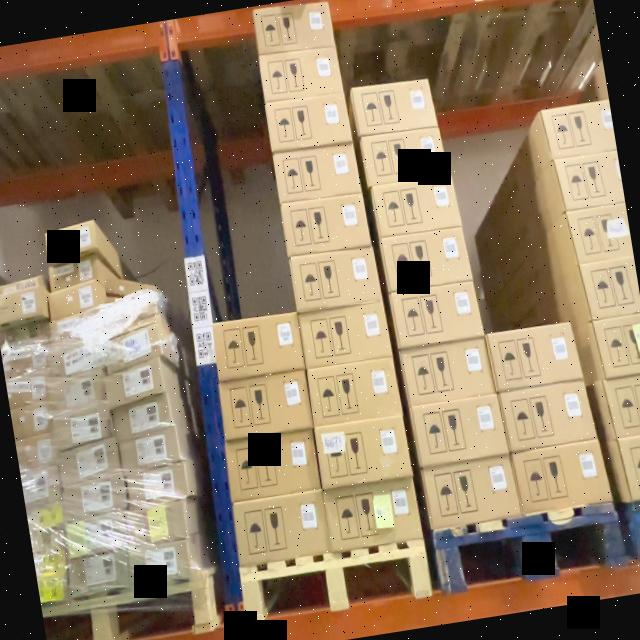box: (231, 491, 330, 567), (410, 396, 509, 469), (513, 440, 611, 512), (423, 457, 521, 529), (315, 416, 411, 488), (499, 381, 596, 452), (225, 430, 322, 501), (324, 478, 422, 548), (212, 312, 306, 383), (218, 369, 313, 439), (400, 338, 494, 407), (307, 358, 402, 426), (487, 323, 581, 390), (298, 301, 390, 368), (390, 282, 483, 348), (290, 246, 382, 312), (382, 228, 473, 293), (281, 192, 370, 256), (371, 176, 460, 237), (272, 143, 360, 203), (265, 92, 351, 153), (360, 127, 448, 186), (351, 79, 438, 138), (259, 47, 343, 101), (254, 2, 335, 57), (106, 357, 164, 408), (128, 460, 188, 509), (60, 437, 120, 486), (66, 550, 131, 595), (102, 322, 162, 370), (65, 512, 128, 557), (54, 400, 114, 447), (63, 474, 127, 518), (129, 539, 192, 582), (114, 393, 173, 438), (126, 500, 188, 542), (120, 424, 179, 467), (54, 366, 106, 409), (102, 295, 159, 333), (49, 280, 97, 321), (46, 220, 97, 257), (47, 255, 98, 291), (50, 342, 101, 375), (49, 309, 100, 342), (105, 280, 154, 297)
